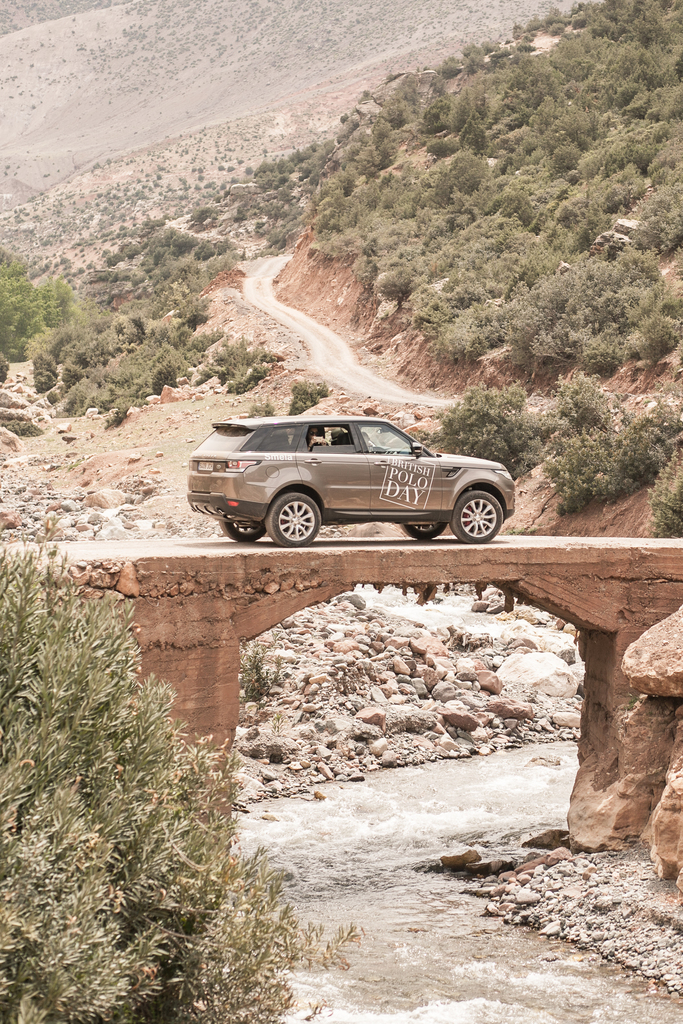cars: (188, 416, 514, 547)
